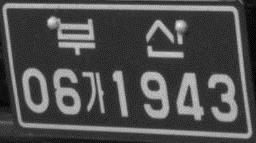0: (21, 66, 49, 114)
1: (110, 68, 130, 120)
3: (207, 71, 238, 124)
4: (174, 70, 205, 122)
6: (52, 66, 81, 116)
9: (139, 69, 170, 120)
가: (81, 69, 106, 115)
부산_D: (54, 16, 187, 60)
